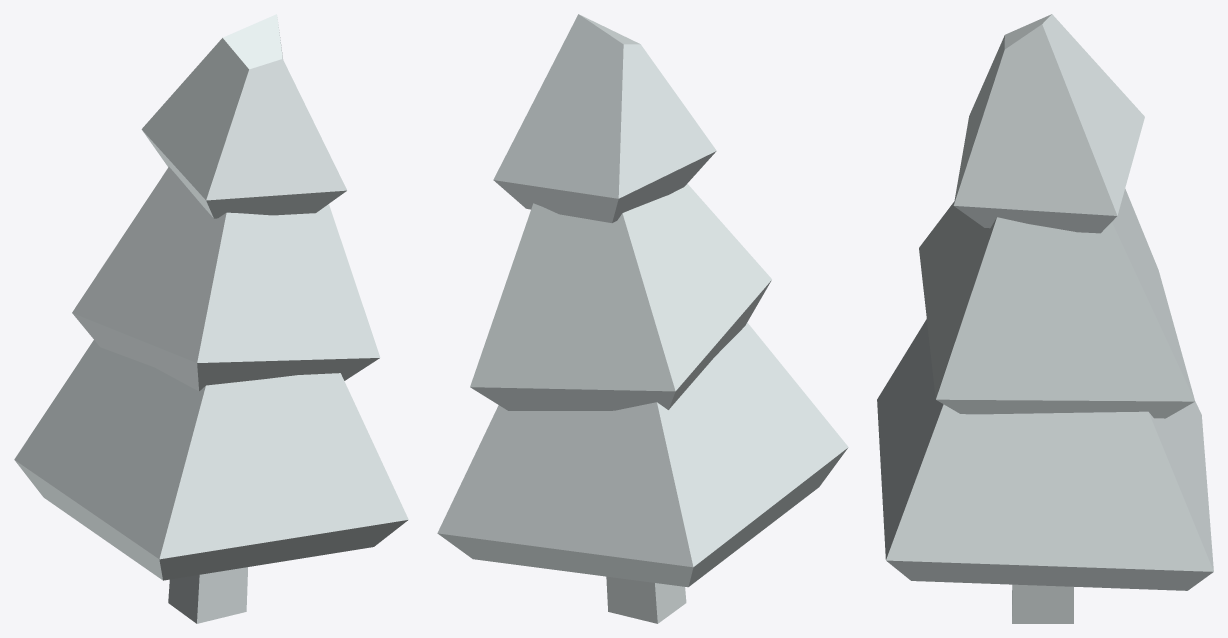
File: Tree.002.fbx
The picture shows the model from 3 angles, left to right: view 1: azimuth 30°, elevation 25°; view 2: azimuth 150°, elevation 25°; view 3: azimuth 270°, elevation 25°; orthographic projection. The views are drawn at different scales.
Parts seen in each view (by area): view 1: Tree.002; view 2: Tree.002; view 3: Tree.002.
Part boxes in pixels (<box>): Tree.002: <box>14,14,408,623</box>; Tree.002: <box>437,14,848,623</box>; Tree.002: <box>877,14,1213,623</box>.
Bounding box in the file's own units: 0.7786 × 1.68 × 0.8217.
